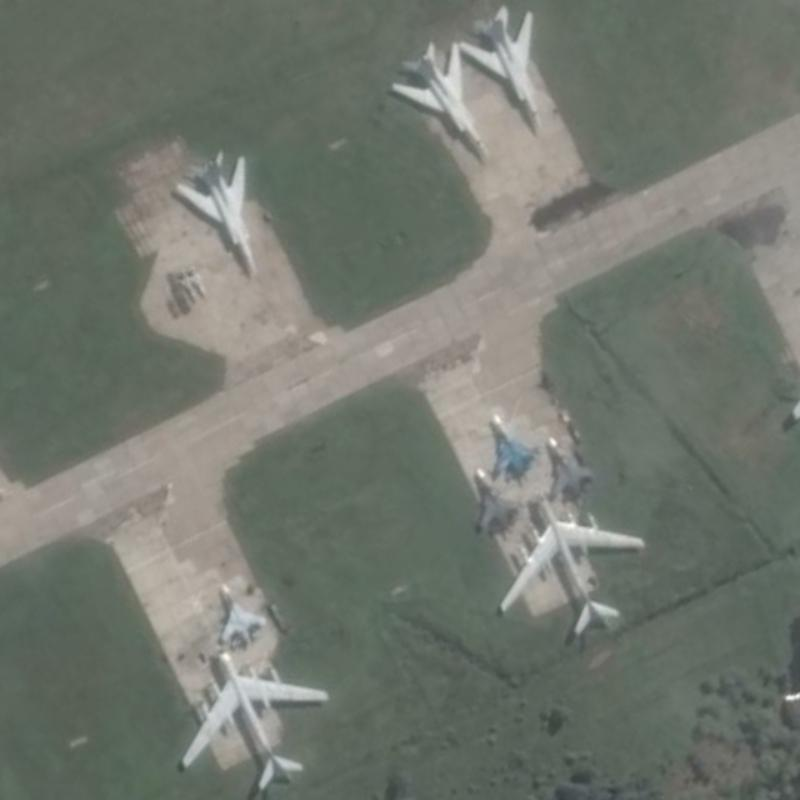A1: (216, 580, 269, 647)
A12: (389, 38, 489, 157), (456, 2, 545, 130), (172, 146, 258, 276)
A17: (177, 646, 331, 791), (496, 491, 646, 636)
A19: (488, 409, 542, 480), (472, 464, 523, 535), (544, 433, 594, 499)
